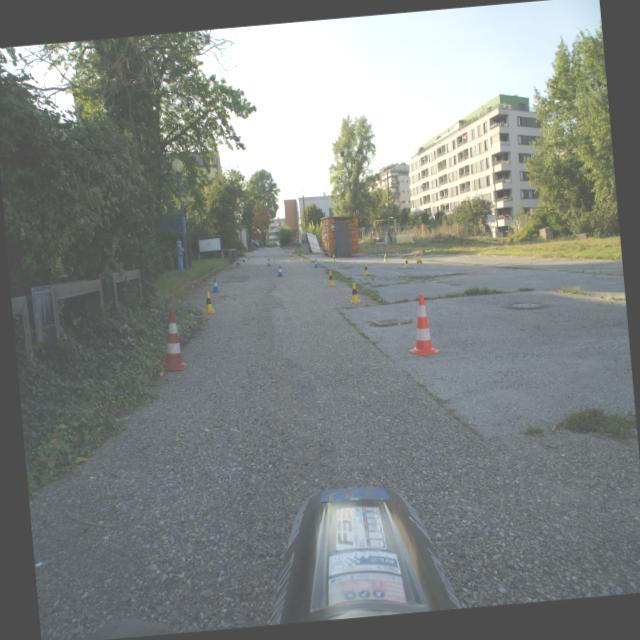blue_cone: (210, 276, 220, 292), (276, 265, 284, 277), (312, 258, 318, 267), (266, 258, 272, 266), (235, 258, 240, 265), (241, 256, 245, 262)
large_orange_cone: (404, 292, 438, 356), (158, 308, 188, 372)
orange_cone: (246, 253, 250, 259), (288, 251, 290, 257)
yellow_cone: (202, 291, 214, 313), (348, 282, 360, 303), (326, 270, 336, 286), (403, 257, 410, 268), (362, 262, 368, 274), (416, 256, 422, 264), (331, 254, 336, 262), (383, 254, 388, 262), (300, 253, 304, 260), (289, 253, 293, 259)
